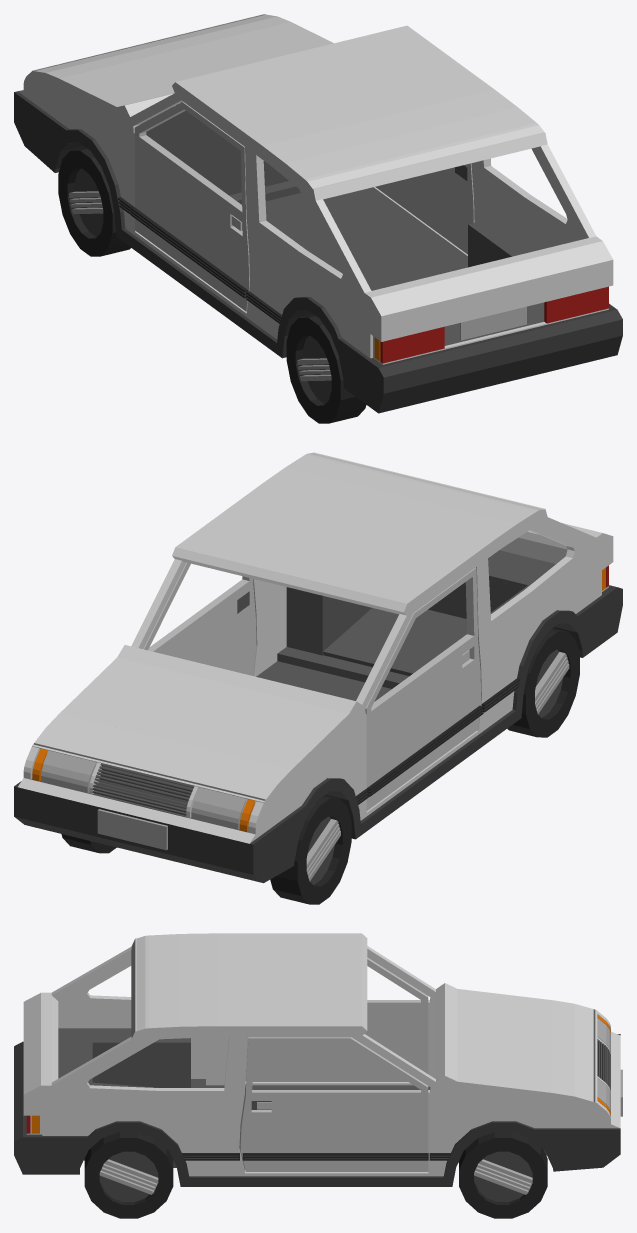
Rendered from drive_car.glb.
3 views of the same model, one above another, from view 1: azimuth 30°, elevation 25°; view 2: azimuth 150°, elevation 25°; view 3: azimuth 270°, elevation 25° (orthographic). The views are drawn at different scales.
Visible parts, largest first — view 1: hexadecagon_179_lada.png_0, hexadecagon_134_lada.png_0, hexadecagon_220_lada.png_0, hexadecagon_354_lada.png_0, hexadecagon_165_lada.png_0, hexadecagon_180_lada.png_0, hexadecagon_166_lada.png_0, hexadecagon_181_lada.png_0, hexadecagon_125_lada.png_0, hexadecagon_124_lada.png_0, hexadecagon_333_lada.png_0, hexadecagon_218_lada.png_0 (+40 smaller); view 2: hexadecagon_179_lada.png_0, hexadecagon_354_lada.png_0, hexadecagon_220_lada.png_0, hexadecagon_180_lada.png_0, hexadecagon_85_lada.png_0, hexadecagon_170_lada.png_0, hexadecagon_181_lada.png_0, hexadecagon_352_lada.png_0, hexadecagon_146_lada.png_0, hexadecagon_353_lada.png_0, hexadecagon_185_lada.png_0, hexadecagon_131_lada.png_0 (+39 smaller); view 3: hexadecagon_179_lada.png_0, hexadecagon_170_lada.png_0, hexadecagon_354_lada.png_0, hexadecagon_220_lada.png_0, hexadecagon_156_lada.png_0, hexadecagon_334_lada.png_0, hexadecagon_180_lada.png_0, hexadecagon_128_lada.png_0, hexadecagon_181_lada.png_0, hexadecagon_115_lada.png_0, hexadecagon_139_lada.png_0, hexadecagon_353_lada.png_0 (+54 smaller).
Boxes of the visible parts, x1,y1,x2,y2 form: hexadecagon_179_lada.png_0: (175,25,494,150); hexadecagon_134_lada.png_0: (265,188,467,290); hexadecagon_220_lada.png_0: (135,134,236,299); hexadecagon_354_lada.png_0: (67,24,325,104); hexadecagon_165_lada.png_0: (370,260,613,341); hexadecagon_180_lada.png_0: (262,89,516,168); hexadecagon_166_lada.png_0: (366,241,612,323); hexadecagon_181_lada.png_0: (285,107,536,183); hexadecagon_125_lada.png_0: (342,319,622,393); hexadecagon_124_lada.png_0: (373,335,622,413); hexadecagon_333_lada.png_0: (146,110,288,195); hexadecagon_218_lada.png_0: (251,217,292,335); hexadecagon_179_lada.png_0: (175,483,494,607); hexadecagon_354_lada.png_0: (67,659,340,768); hexadecagon_220_lada.png_0: (366,643,462,810); hexadecagon_180_lada.png_0: (263,467,517,544); hexadecagon_85_lada.png_0: (323,608,466,676); hexadecagon_170_lada.png_0: (148,588,237,671); hexadecagon_181_lada.png_0: (286,455,536,528); hexadecagon_352_lada.png_0: (42,730,268,797); hexadecagon_146_lada.png_0: (14,799,297,874); hexadecagon_353_lada.png_0: (54,716,282,782); hexadecagon_185_lada.png_0: (117,645,356,719); hexadecagon_131_lada.png_0: (14,781,306,857); hexadecagon_179_lada.png_0: (218,933,361,1030); hexadecagon_170_lada.png_0: (271,1090,428,1171); hexadecagon_354_lada.png_0: (457,992,552,1089); hexadecagon_220_lada.png_0: (271,1000,428,1081); hexadecagon_156_lada.png_0: (180,1088,237,1173); hexadecagon_334_lada.png_0: (59,1092,180,1129); hexadecagon_180_lada.png_0: (181,933,218,1030); hexadecagon_128_lada.png_0: (92,1045,187,1087); hexadecagon_181_lada.png_0: (149,934,180,1032); hexadecagon_115_lada.png_0: (180,1176,452,1186); hexadecagon_139_lada.png_0: (445,1105,583,1126); hexadecagon_353_lada.png_0: (552,1003,574,1092).
Size of the model in its own units: 1.6 by 1.49 by 4.3.
Materials: 1 (1 with a texture image).
